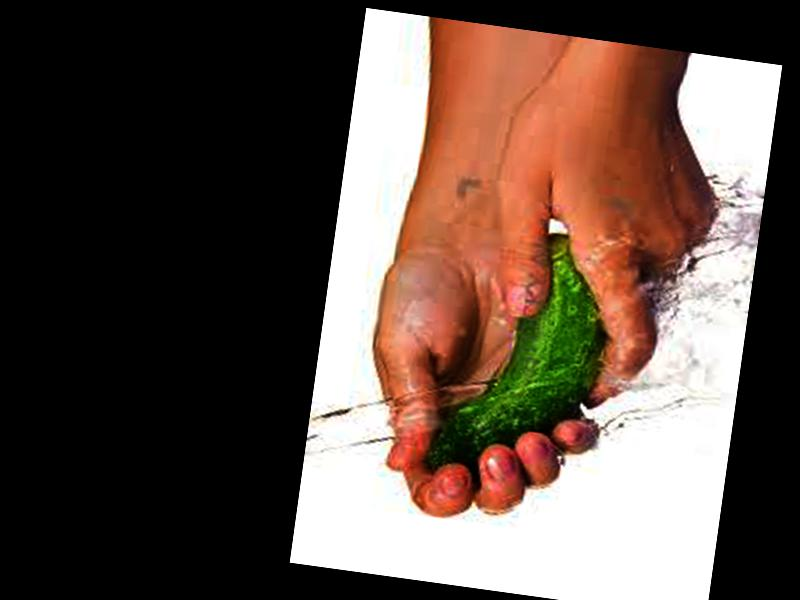Cucumber: (425, 217, 621, 492)
